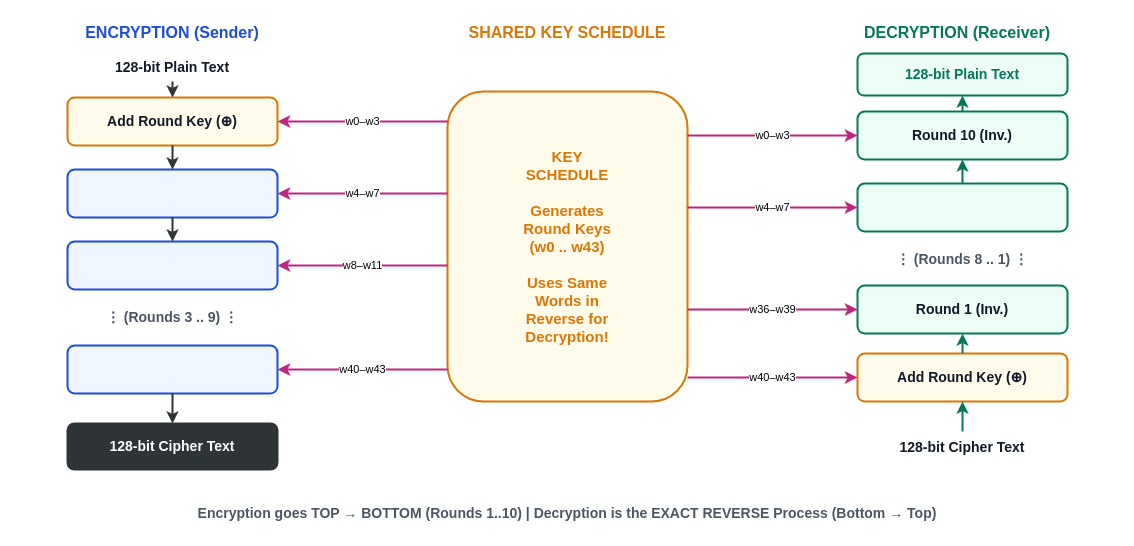
The diagram is 1134 pixels wide and 546 high, and some of its shapes have lost their labels. Each missing label, with the box of its shape:
Round 1: (66, 168, 278, 218)
Round 10 (Final): (66, 344, 278, 394)
Round 2: (66, 240, 278, 290)
Round 9 (Inv.): (856, 182, 1068, 232)
